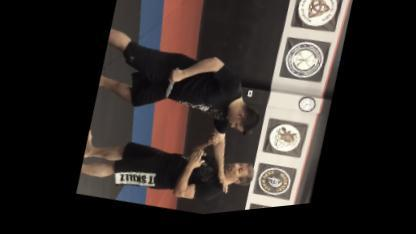knife: (161, 67, 182, 104)
